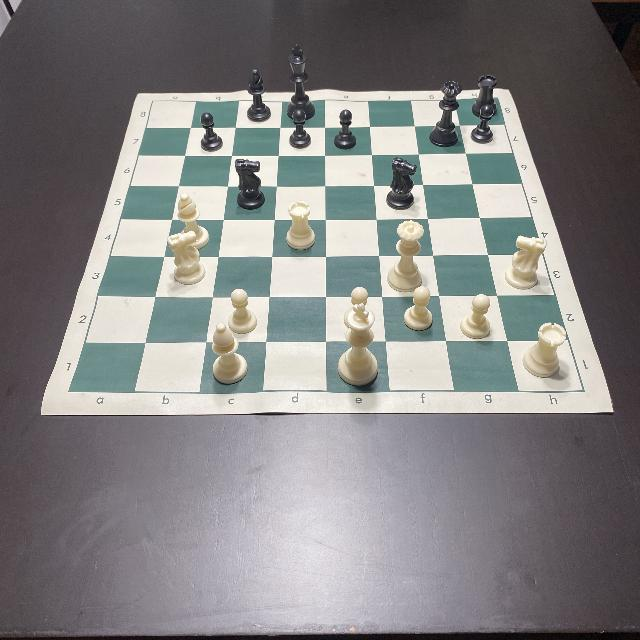black-bishop: (248, 68, 272, 124)
black-king: (287, 43, 315, 119)
black-knight: (234, 158, 266, 210), (386, 157, 416, 210)
black-pawn: (200, 112, 223, 152), (471, 105, 494, 144), (289, 110, 311, 148), (335, 110, 355, 148)
black-queen: (431, 80, 462, 148)
black-rook: (474, 75, 498, 118)
board: (41, 88, 615, 416)
white-bishop: (212, 324, 248, 384), (178, 192, 208, 248)
white-king: (338, 303, 378, 387)
white-knight: (504, 237, 548, 290), (168, 231, 206, 285)
white-pawn: (461, 295, 492, 339), (229, 288, 257, 334), (403, 286, 432, 330), (345, 286, 371, 330)
white-queen: (389, 220, 423, 294)
white-rook: (523, 322, 567, 378), (286, 200, 316, 250)
